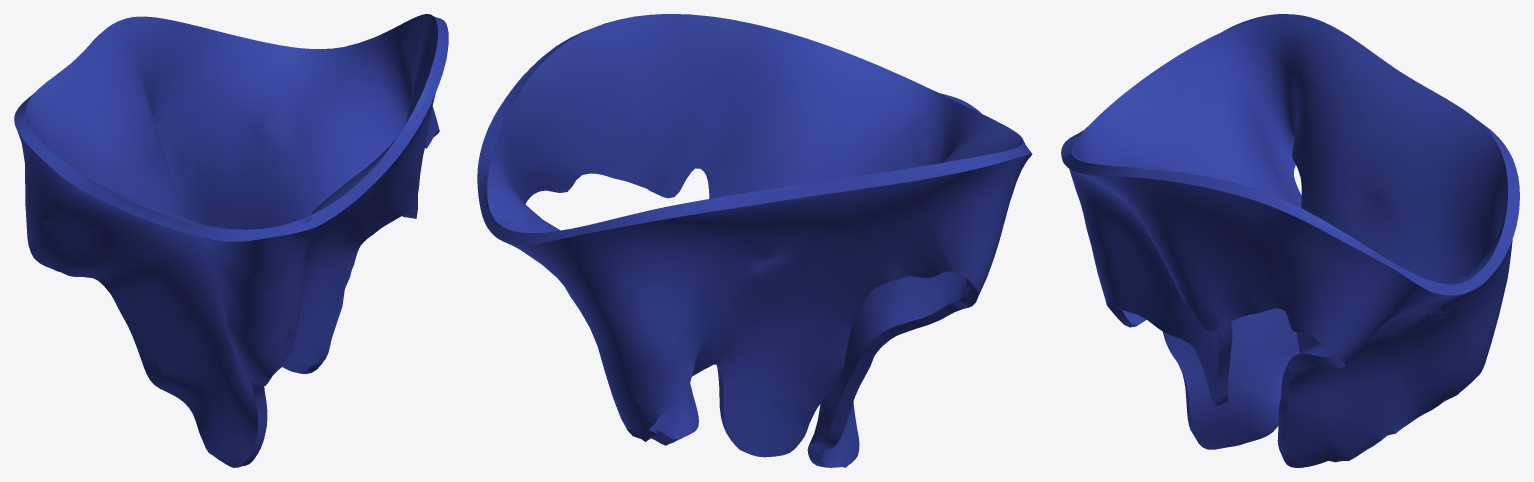
3 renders of one model, left to right at view 1: azimuth 30°, elevation 25°; view 2: azimuth 150°, elevation 25°; view 3: azimuth 270°, elevation 25°, orthographic. The views are drawn at different scales.
Parts seen in each view (by area): view 1: OCS14_maxS_8; view 2: OCS14_maxS_8; view 3: OCS14_maxS_8.
Part boxes in pixels (bbox=[...]): OCS14_maxS_8: bbox=[14, 14, 448, 467]; OCS14_maxS_8: bbox=[477, 14, 1032, 467]; OCS14_maxS_8: bbox=[1061, 14, 1519, 467].
Size of the model in its own units: 1.46 by 1.17 by 1.33.
